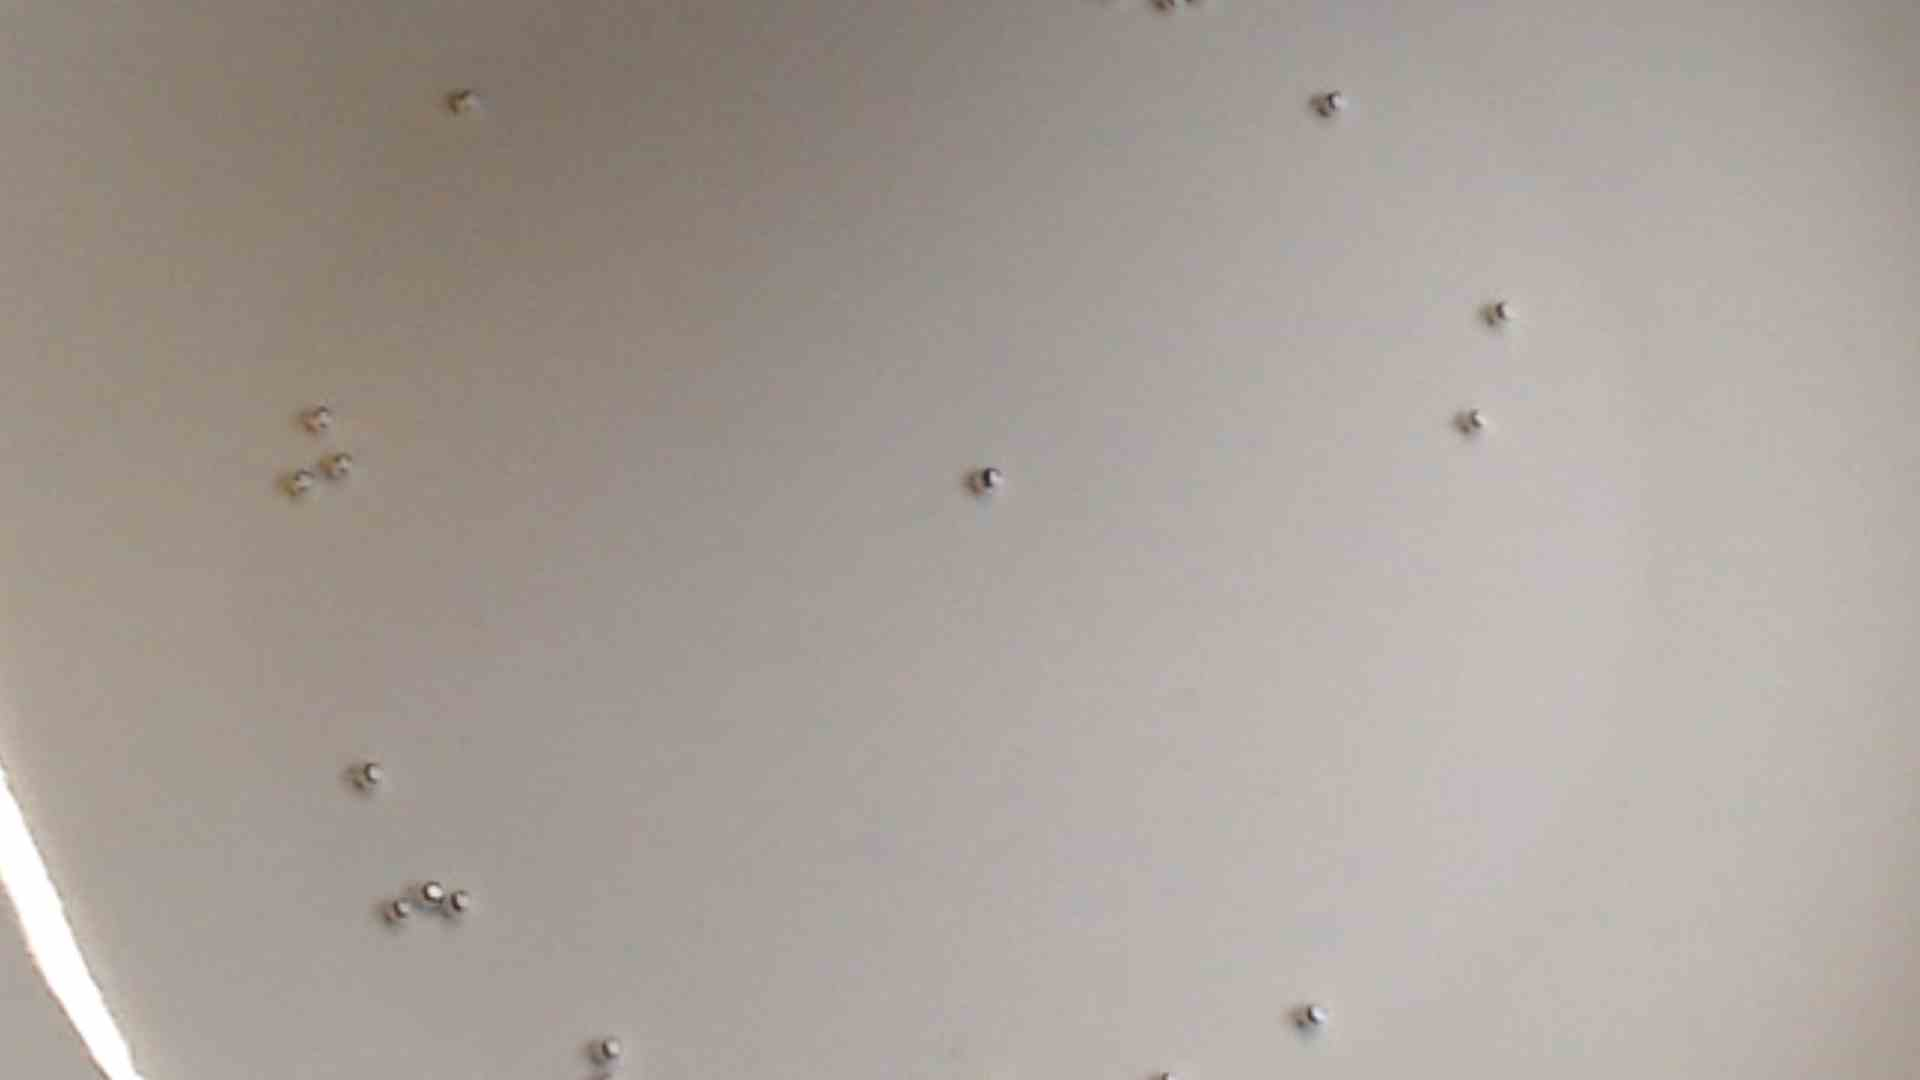chocolate: (301, 398, 339, 440), (446, 82, 484, 123), (318, 447, 357, 485), (589, 1030, 628, 1069), (348, 756, 389, 793), (971, 462, 1009, 498), (1295, 996, 1333, 1030), (385, 891, 418, 931), (417, 876, 451, 913), (1487, 293, 1524, 327), (1457, 404, 1495, 436), (282, 464, 318, 498), (1313, 88, 1349, 123), (447, 880, 480, 916)
